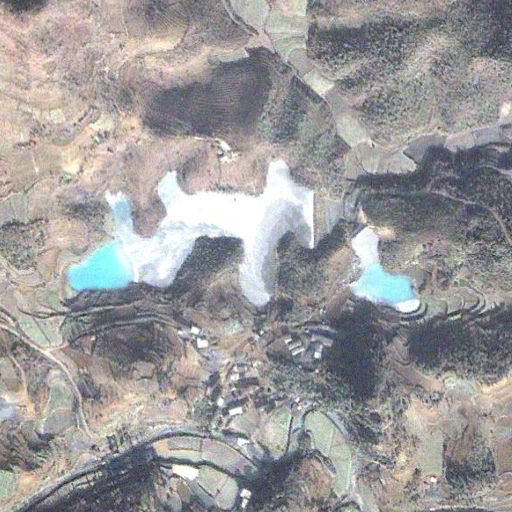tp: (69, 159, 345, 308), (346, 222, 421, 314)
